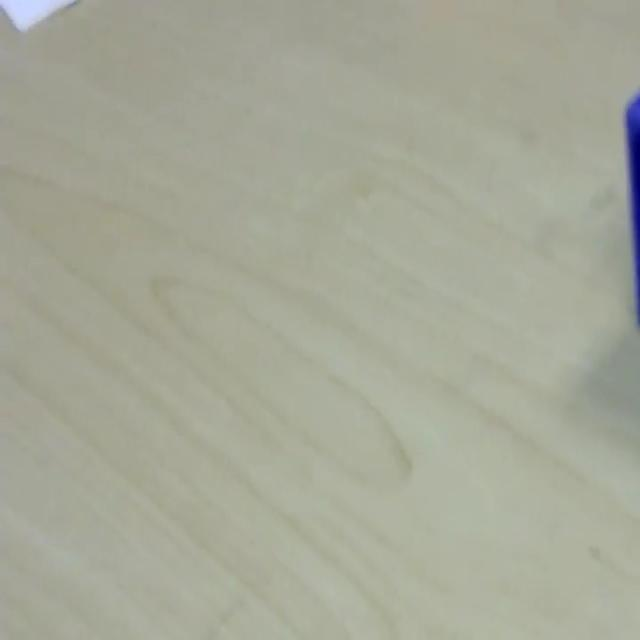blue_block: (623, 88, 639, 325)
